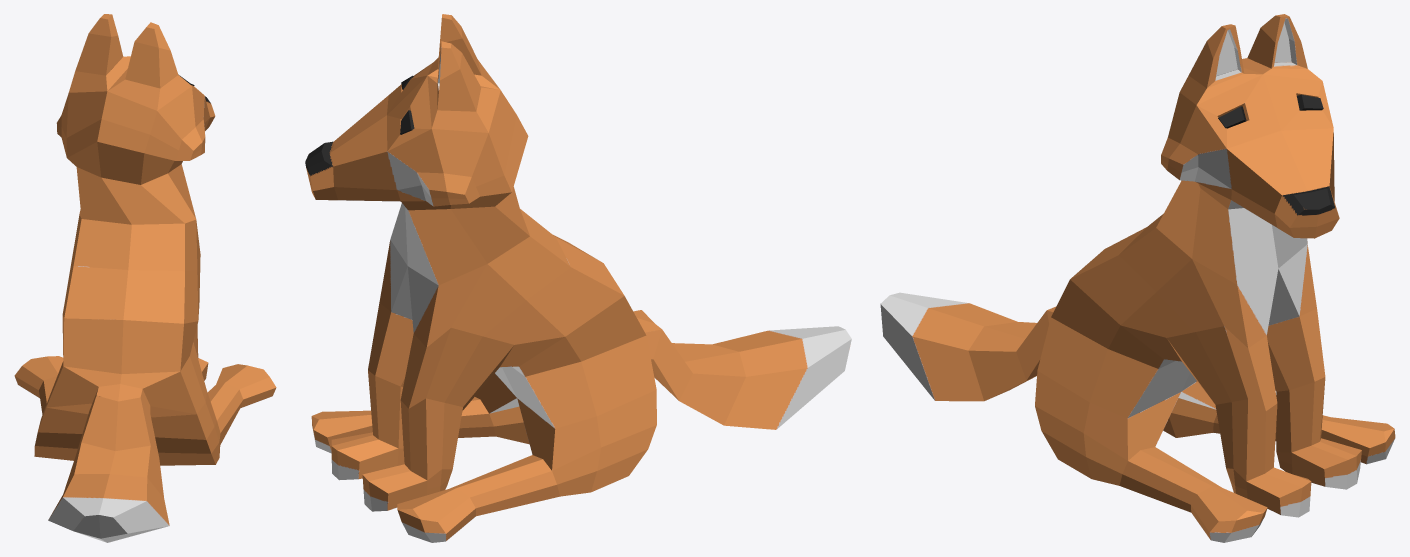
Rendered from zorrito.obj.
3 renders of one model, left to right at view 1: azimuth 30°, elevation 25°; view 2: azimuth 150°, elevation 25°; view 3: azimuth 270°, elevation 25°, orthographic. The views are drawn at different scales.
Visible parts, largest first — view 1: Cube.024; view 2: Cube.024; view 3: Cube.024.
Part boxes in pixels (x1,y1,x2,y2): Cube.024: [14, 14, 276, 542]; Cube.024: [305, 14, 851, 542]; Cube.024: [880, 14, 1395, 542].
Bounding box in the file's own units: 0.3318 × 0.3831 × 0.3901.
